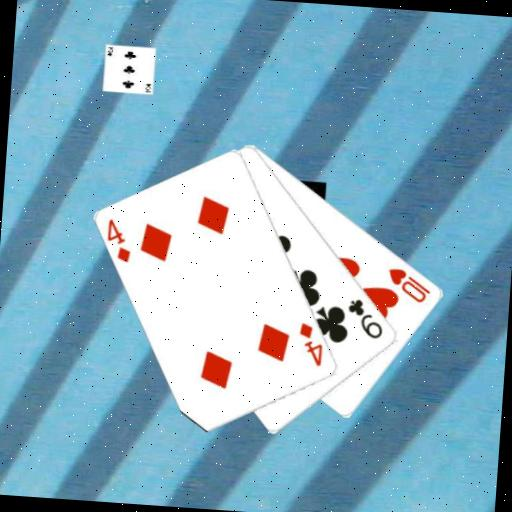10H: (384, 264, 435, 306)
4D: (294, 319, 327, 368), (103, 216, 136, 265)
9C: (343, 295, 387, 341)
